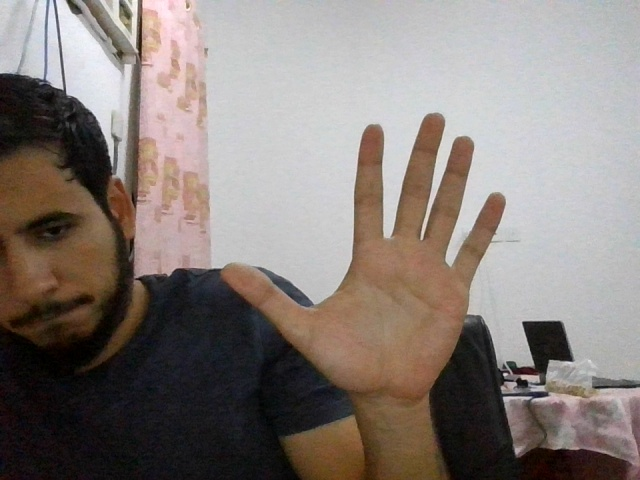Five: (220, 112, 505, 398)
